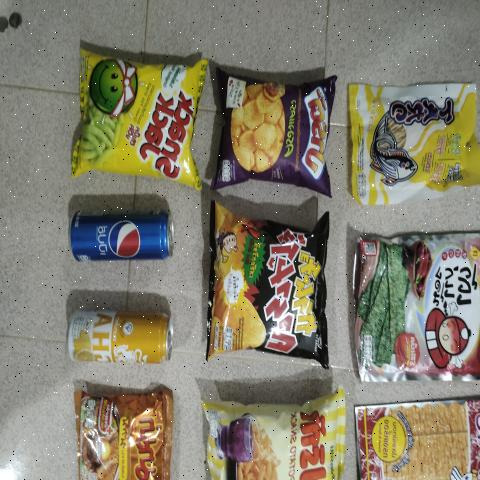bento_red: (353, 400, 480, 480)
karamujo: (199, 212, 332, 371)
mama: (76, 383, 172, 480)
paprika: (204, 393, 342, 480)
party_purple: (222, 76, 330, 184)
pepsi_blue: (68, 208, 174, 266)
singha_yellow: (62, 299, 177, 371)
snack_jack: (78, 58, 193, 178)
taokaenoi: (359, 235, 480, 375)
taro_yellow: (350, 86, 476, 199)
